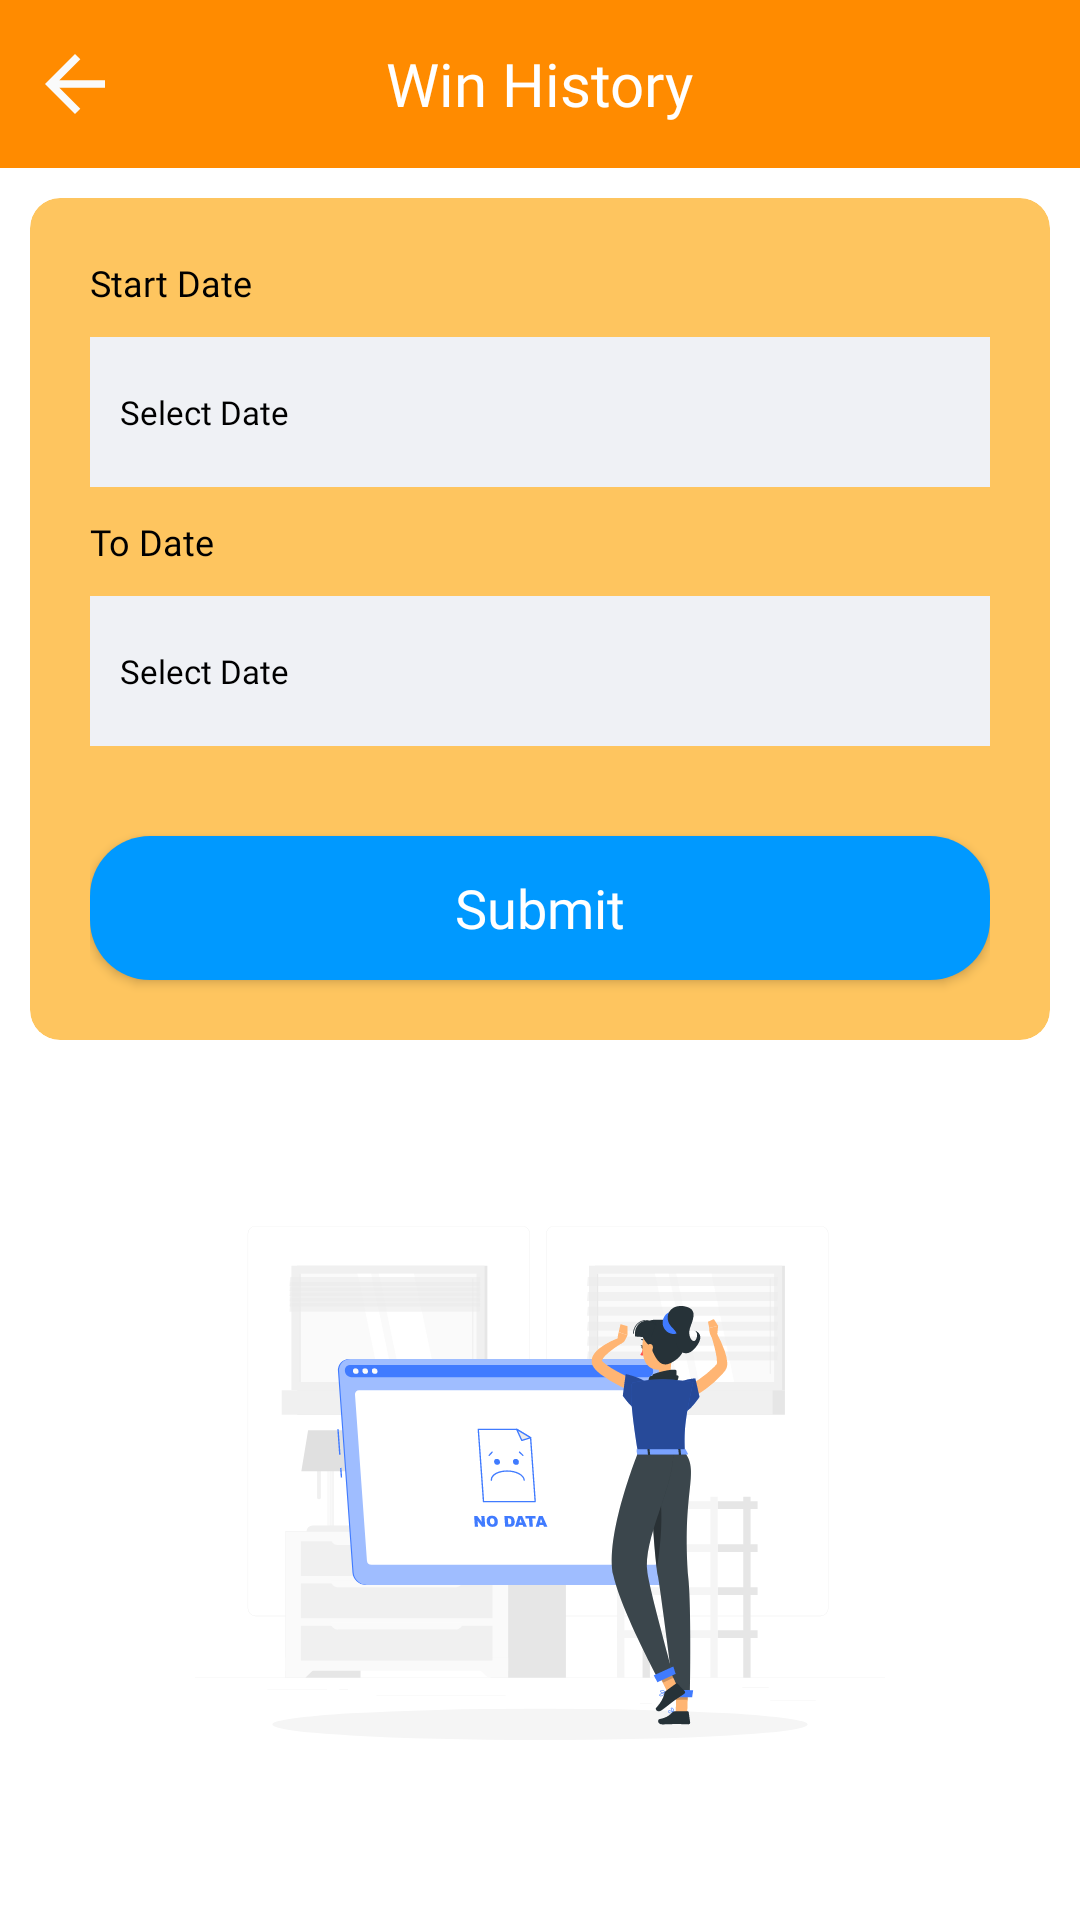

Where to tap for icons on this 1080 × 1920 app screen, as point (x, y):
arrow back: point (75, 84)
